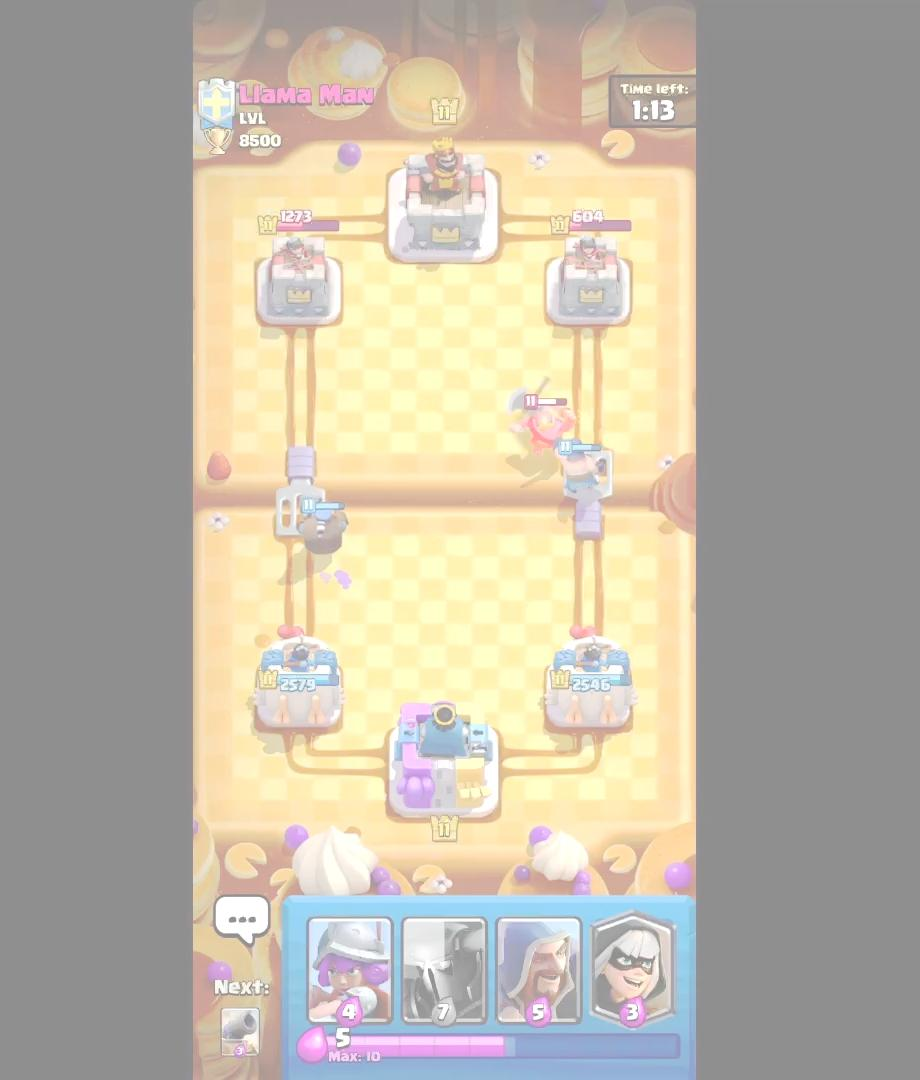Knight: (503, 385, 581, 459)
